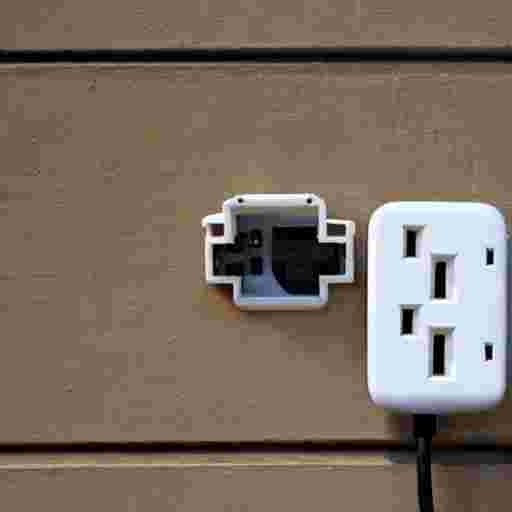power outlet: (367, 202, 506, 414), (202, 193, 354, 309)
